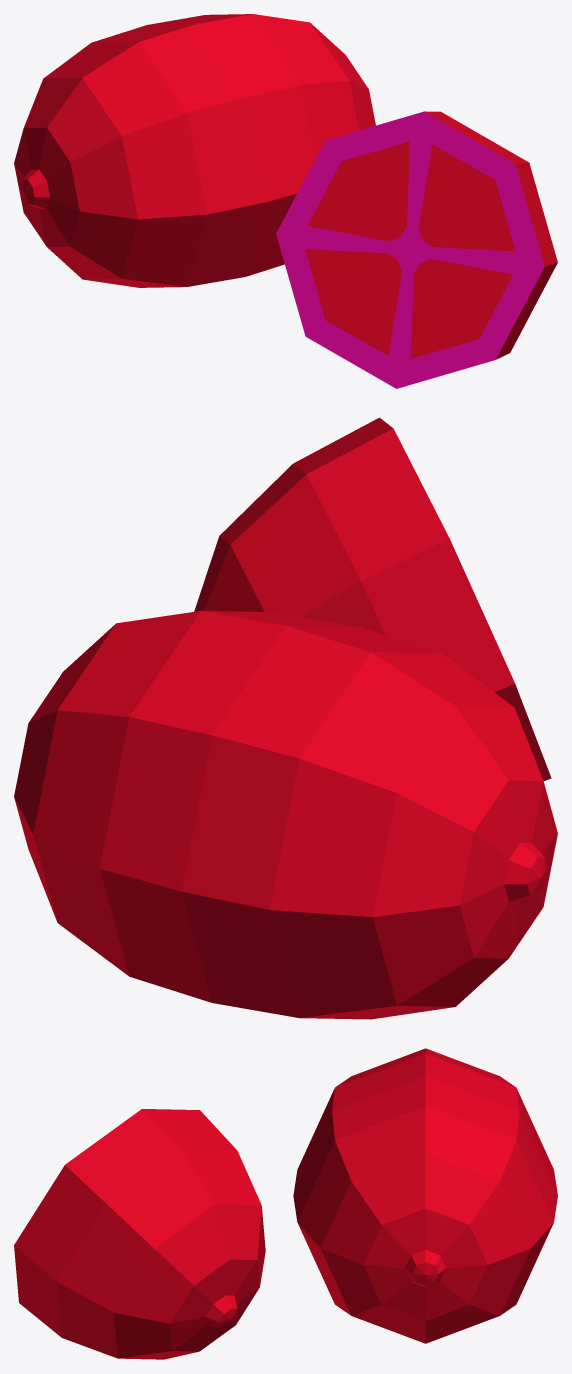
Rendered from Lemon_01.fbx.
3 views of the same model, one above another, from view 1: azimuth 30°, elevation 25°; view 2: azimuth 150°, elevation 25°; view 3: azimuth 270°, elevation 25° (orthographic). The views are drawn at different scales.
Parts seen in each view (by area): view 1: Lemon_01; view 2: Lemon_01; view 3: Lemon_01.
Boxes of the visible parts, x1=… form: Lemon_01: x1=14, y1=14, x2=557, y2=388; Lemon_01: x1=14, y1=417, x2=557, y2=1019; Lemon_01: x1=14, y1=1048, x2=557, y2=1359.
Bounding box in the file's own units: 4.89 × 3.32 × 6.74.
